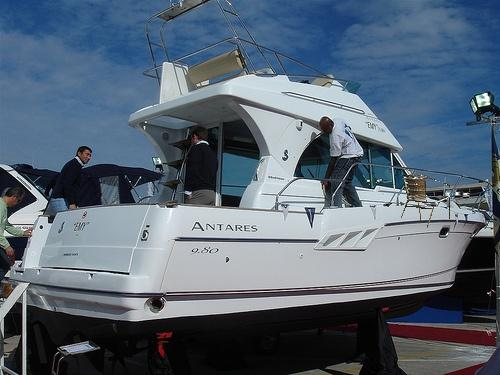tampered: (397, 170, 450, 228)
